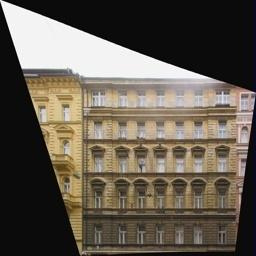building: (82, 73, 237, 256)
